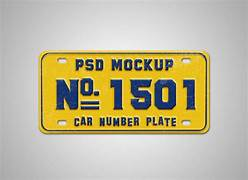number_plate: (43, 53, 208, 131)
